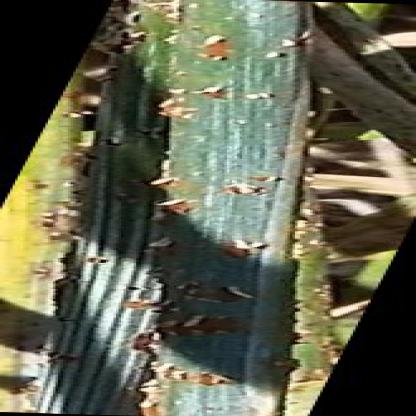wheat Stem Rust: (122, 0, 292, 406)
